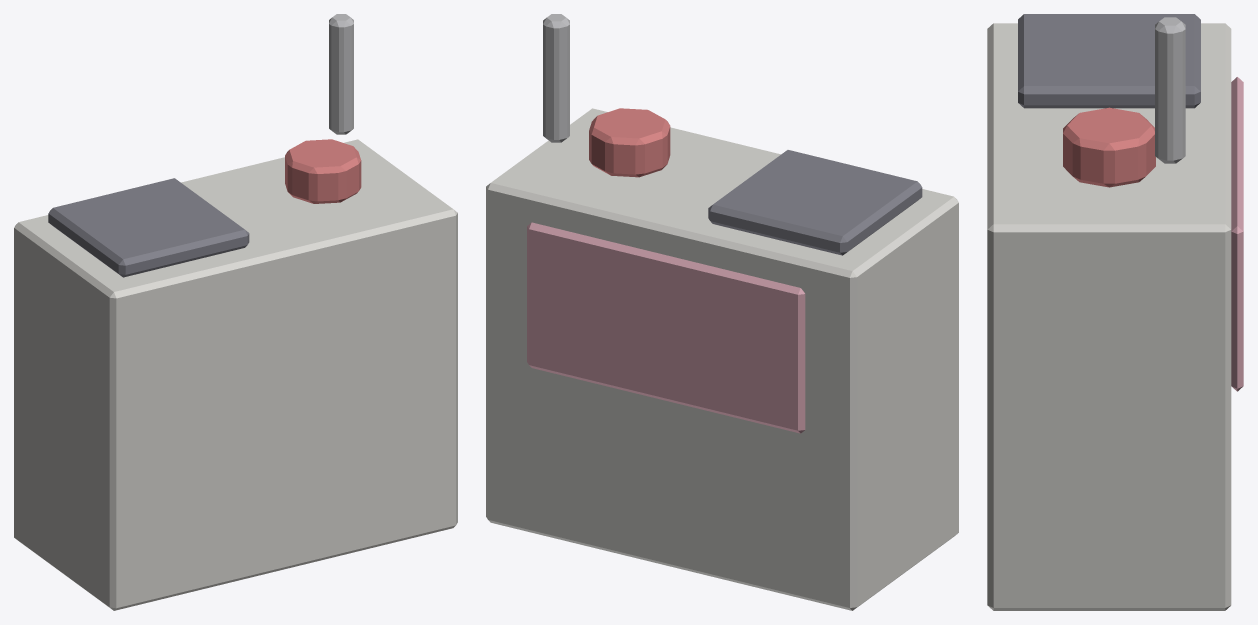
The model's file is shell_cozinha.glb.
3 renders of one model, left to right at view 1: azimuth 30°, elevation 25°; view 2: azimuth 150°, elevation 25°; view 3: azimuth 270°, elevation 25°, orthographic. The views are drawn at different scales.
Visible parts, largest first — view 1: KID_COZINHA_TOY_v01; view 2: KID_COZINHA_TOY_v01; view 3: KID_COZINHA_TOY_v01.
Part boxes in pixels (box(x1,y1,x2,y2)): KID_COZINHA_TOY_v01: box(14, 14, 457, 610); KID_COZINHA_TOY_v01: box(486, 14, 958, 610); KID_COZINHA_TOY_v01: box(987, 14, 1243, 610).
Bounding box in the file's own units: 0.8 × 1.02 × 0.42.
